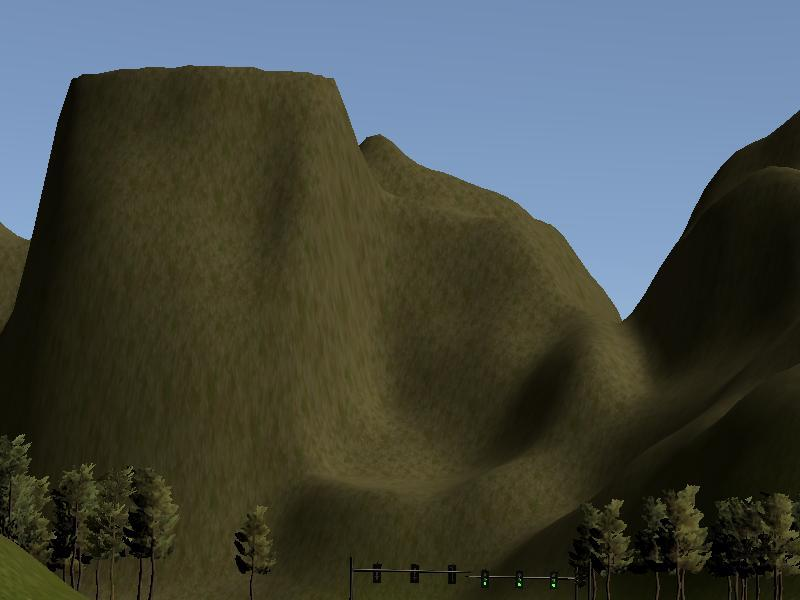Green: (549, 568, 558, 590), (480, 569, 489, 590), (514, 569, 523, 589)
